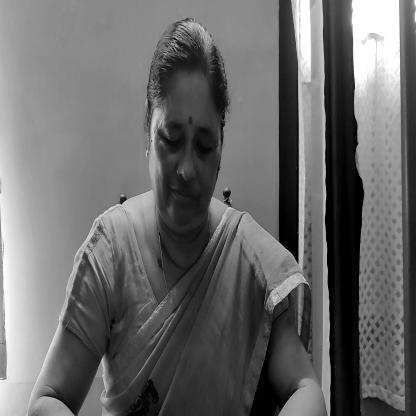Normal: (146, 27, 223, 234)
